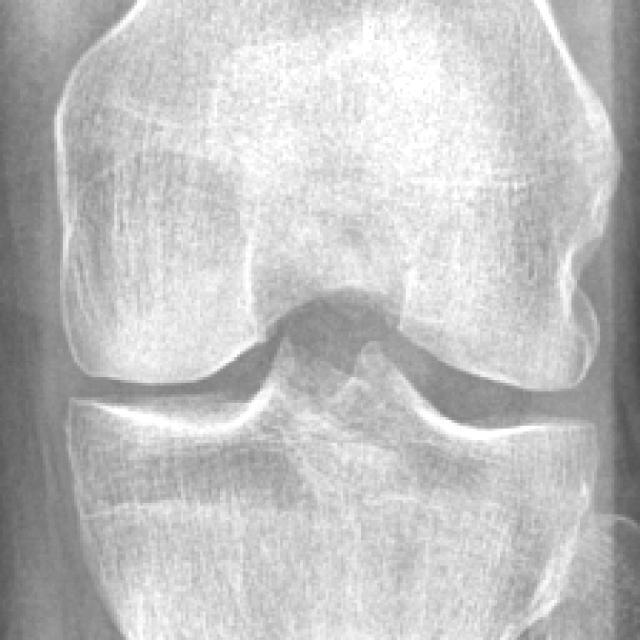femur: (56, 1, 611, 392)
tibia: (67, 341, 590, 640)
